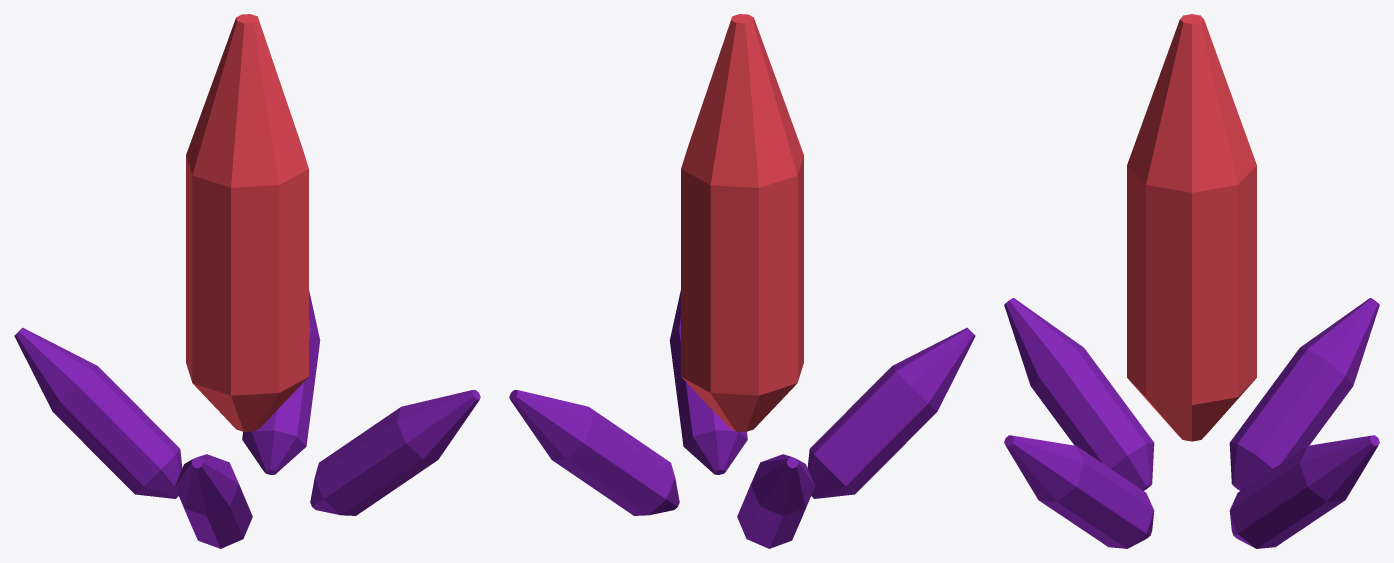
The model's file is LightEnemy.fbx.
3 renders of one model, left to right at view 1: azimuth 30°, elevation 25°; view 2: azimuth 150°, elevation 25°; view 3: azimuth 270°, elevation 25°, orthographic. The views are drawn at different scales.
Parts seen in each view (by area): view 1: Cylinder, Cylinder.001; view 2: Cylinder, Cylinder.001; view 3: Cylinder, Cylinder.001.
Part boxes in pixels (<box>): Cylinder: <box>186,14,308,431</box>; Cylinder.001: <box>14,290,480,548</box>; Cylinder: <box>681,14,803,431</box>; Cylinder.001: <box>509,290,975,548</box>; Cylinder: <box>1127,14,1256,441</box>; Cylinder.001: <box>1004,298,1379,548</box>.
Size of the model in its own units: 59.88 by 96.59 by 66.33.
